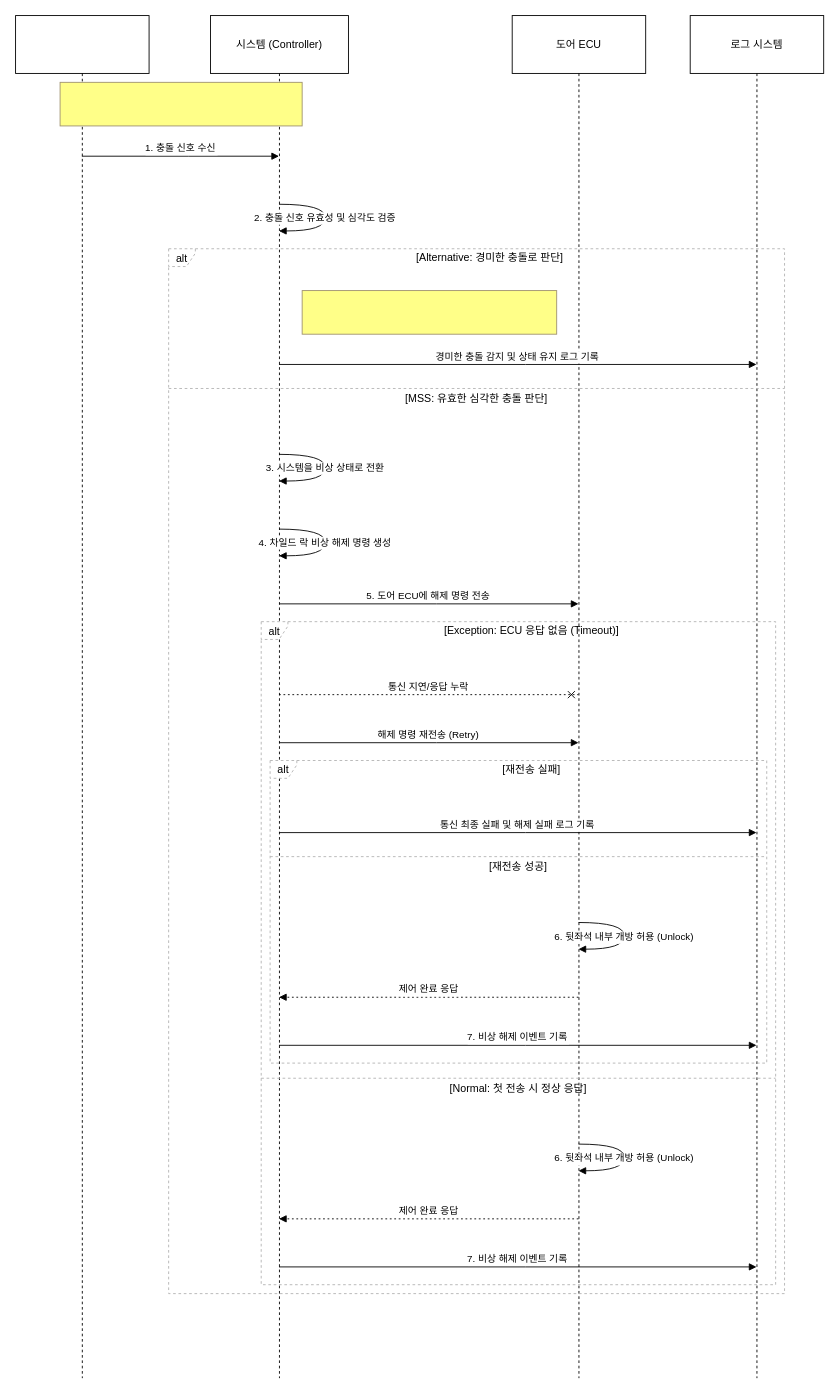
Some shapes in this 839 by 1394 pixel diagram are drawn without their labels. Each missing label, with the box of its shape:
Trigger: 충돌 감지 또는 에어백 전개 신호 수신: (59, 81, 302, 126)
설정에 따라 기존 차일드 락 상태 유지: (301, 290, 557, 334)
충돌 센서 (ACU): (15, 15, 149, 1378)
